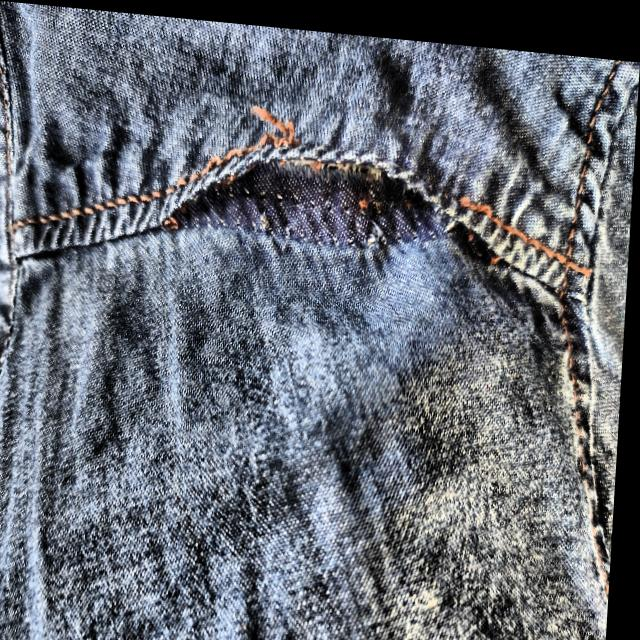seam: (170, 98, 469, 318)
